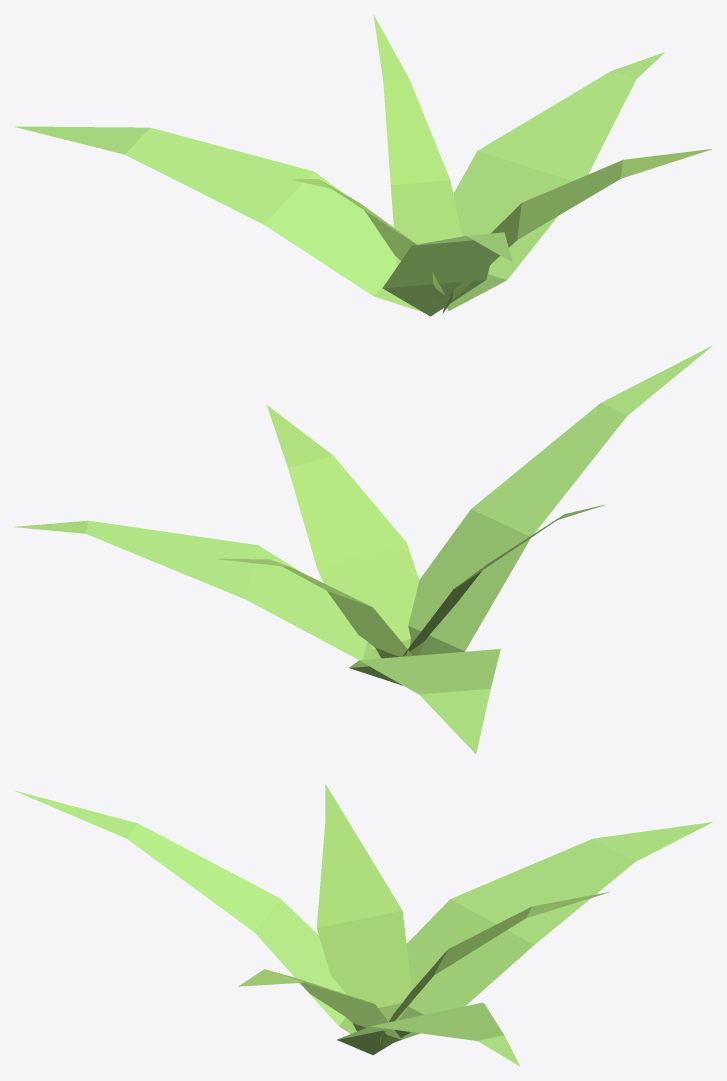
The model's file is Plant_a_TwoS_06.fbx.
The picture shows the model from 3 angles, top to bottom: view 1: azimuth 30°, elevation 25°; view 2: azimuth 150°, elevation 25°; view 3: azimuth 270°, elevation 25°; orthographic projection. The views are drawn at different scales.
Visible parts, largest first — view 1: Plant_a_TwoS_06; view 2: Plant_a_TwoS_06; view 3: Plant_a_TwoS_06.
Boxes of the visible parts, <box> form: Plant_a_TwoS_06: <box>15,15,711,316</box>; Plant_a_TwoS_06: <box>14,346,711,753</box>; Plant_a_TwoS_06: <box>15,784,712,1066</box>.
Size of the model in its own units: 1.65 by 0.6193 by 1.89.
